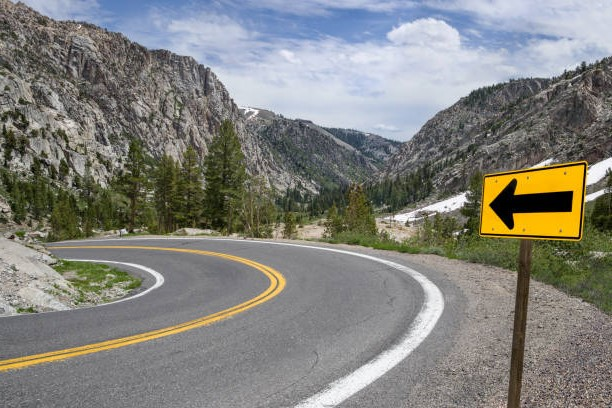leftTrun: (84, 224, 431, 380)
